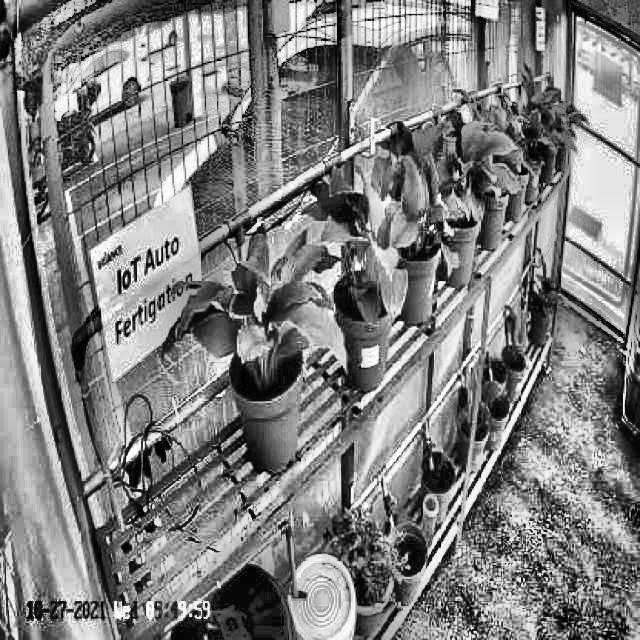plants: (156, 219, 352, 395), (304, 168, 408, 320), (376, 120, 459, 277), (427, 102, 521, 225)
